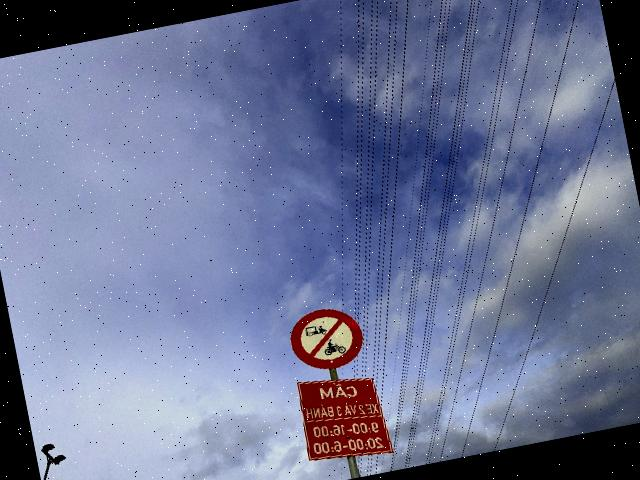cam-xe-2-banh-3-banh: (284, 302, 368, 375)
